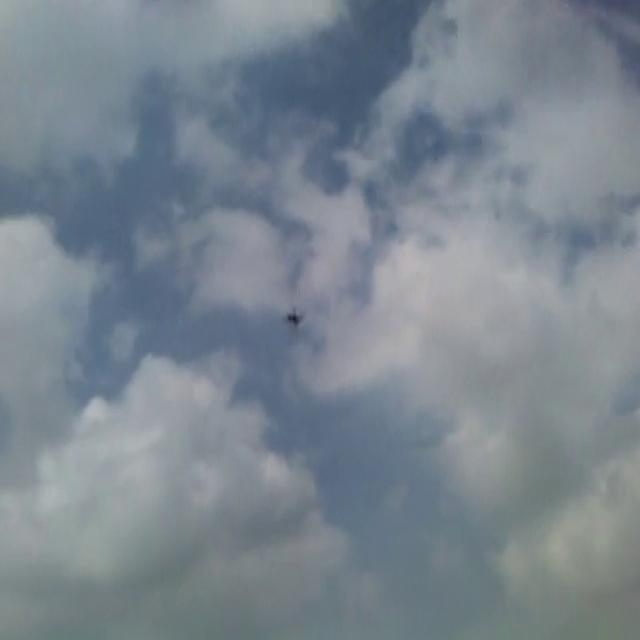drone: (285, 300, 304, 329)
